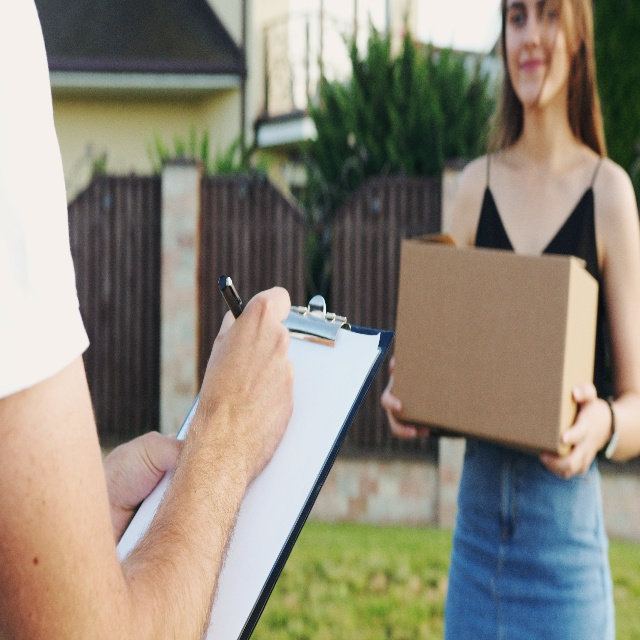Sin_guantes: (202, 289, 295, 460), (102, 439, 182, 546), (536, 374, 608, 488), (382, 355, 431, 443)
